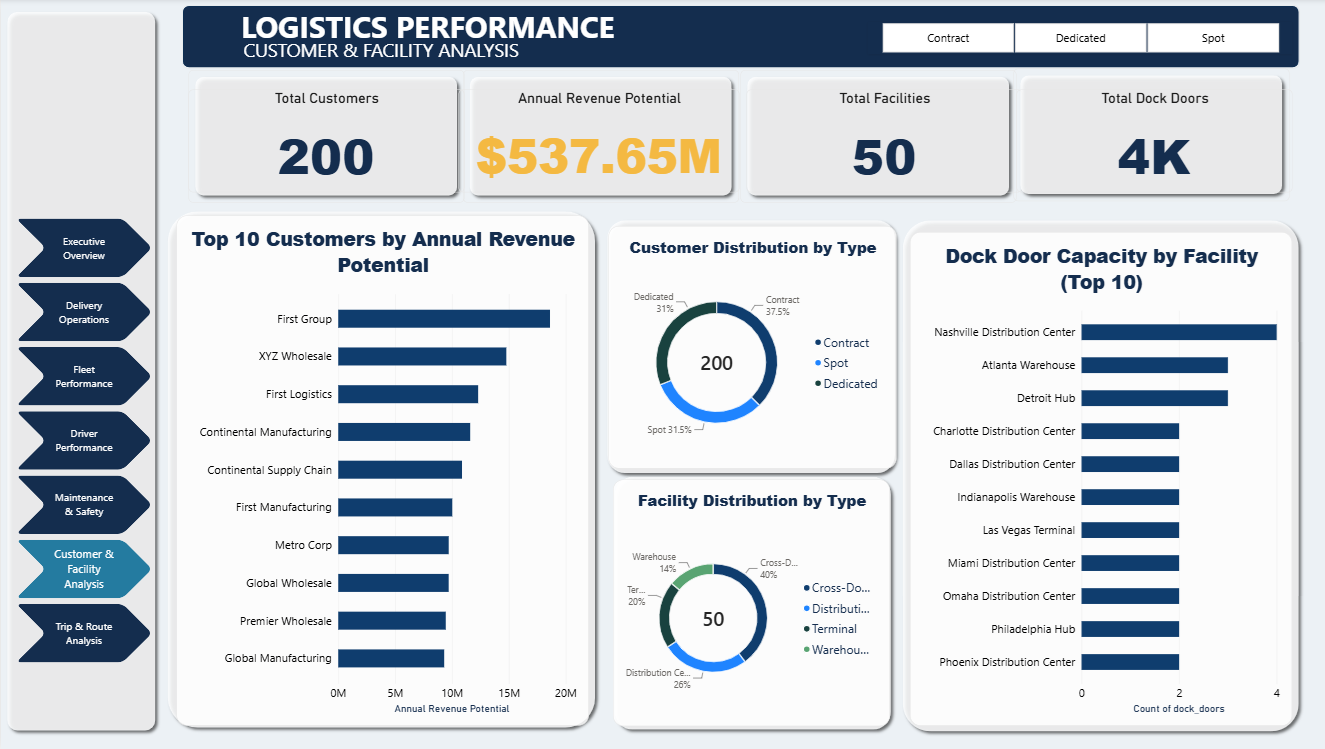

This screenshot's page, from the dashboard's own definition file:
{"tool":"powerbi","page":{"name":"Customer & Facility Analysis","canvas":[1920,1080],"ordinal":5},"visuals":[{"type":"shape","box":[0,10,230,1047.5],"z":0},{"type":"shape","box":[259,10.3,1600,90],"z":1000},{"type":"shape","box":[267.5,102.5,395,190],"z":2000},{"type":"shape","box":[230,297.5,630,757.5],"z":3000},{"type":"shape","box":[1282.5,310,585,750],"z":4000},{"type":"shape","box":[860,310,430,380],"z":5000},{"type":"shape","box":[870,676.7,413.3,380],"z":6000},{"type":"textbox","box":[230,10,762.5,70],"z":7000},{"type":"textbox","box":[285,55,517.5,45],"z":8000},{"type":"cardVisual","title":"Total Customers","fields":{"Data":["All Measures.Total Customers"]},"box":[267.5,130,395,147.5],"z":10000},{"type":"shape","box":[1060,102.5,395,190],"z":11000},{"type":"cardVisual","title":"Total Facilities","fields":{"Data":["All Measures.Total Facilities"]},"box":[1067.5,130,395,147.5],"z":12000},{"type":"clusteredBarChart","title":"Top 10 Customers by Annual Revenue Potential","fields":{"Category":["customers.customer_name"],"Y":["Sum(customers.annual_revenue_potential)"]},"box":[252.5,312.5,592.5,730],"z":13000},{"type":"donutChart","title":"Customer Distribution by Type","fields":{"Category":["customers.customer_type"],"Y":["All Measures.Total Customers"]},"box":[870,327.5,412.5,347.5],"z":14000},{"type":"clusteredBarChart","title":"Dock Door Capacity by Facility (Top 10)","fields":{"Category":["facilities.facility_name"],"Y":["CountNonNull(facilities.dock_doors)"]},"box":[1302.5,335,547.5,707.5],"z":15000},{"type":"shape","box":[662.5,102.5,395,190],"z":16000},{"type":"cardVisual","title":"Annual Revenue Potential","fields":{"Data":["All Measures.Annual Revenue Potential"]},"box":[655,130,402.5,147.5],"z":17000},{"type":"pageNavigator","box":[22.5,315,195,637],"z":18000},{"type":"shape","box":[1450,100,395,190],"z":19000},{"type":"cardVisual","title":"Total Dock Doors","fields":{"Data":["All Measures.Total Dock Doors"]},"box":[1455,130,395,147.5],"z":20000},{"type":"donutChart","title":"Facility Distribution by Type","fields":{"Category":["facilities.facility_type"],"Y":["All Measures.Total Facilities"]},"box":[876.7,690,396.7,353.3],"z":21000},{"type":"slicer","fields":{"Values":["customers.customer_type"]},"box":[1242.5,35,607.5,45],"z":21001}]}

Visuals, with their boxes in screenshot pixels (x1, y1, x2, y2), scaled from the page's 1920x1080 canvas onto the 1325x749 screenshot:
shape: region(0, 7, 159, 733)
shape: region(179, 7, 1283, 70)
shape: region(185, 71, 457, 203)
shape: region(159, 206, 593, 732)
shape: region(885, 215, 1289, 735)
shape: region(593, 215, 890, 479)
shape: region(600, 469, 886, 733)
textbox: region(159, 7, 685, 55)
textbox: region(197, 38, 554, 69)
"Total Customers" cardVisual: region(185, 90, 457, 192)
shape: region(732, 71, 1004, 203)
"Total Facilities" cardVisual: region(737, 90, 1009, 192)
"Top 10 Customers by Annual Revenue Potential" clusteredBarChart: region(174, 217, 583, 723)
"Customer Distribution by Type" donutChart: region(600, 227, 885, 468)
"Dock Door Capacity by Facility (Top 10)" clusteredBarChart: region(899, 232, 1277, 723)
shape: region(457, 71, 730, 203)
"Annual Revenue Potential" cardVisual: region(452, 90, 730, 192)
pageNavigator: region(16, 218, 150, 660)
shape: region(1001, 69, 1273, 201)
"Total Dock Doors" cardVisual: region(1004, 90, 1277, 192)
"Facility Distribution by Type" donutChart: region(605, 479, 879, 724)
slicer - customers.customer_type: region(857, 24, 1277, 55)
